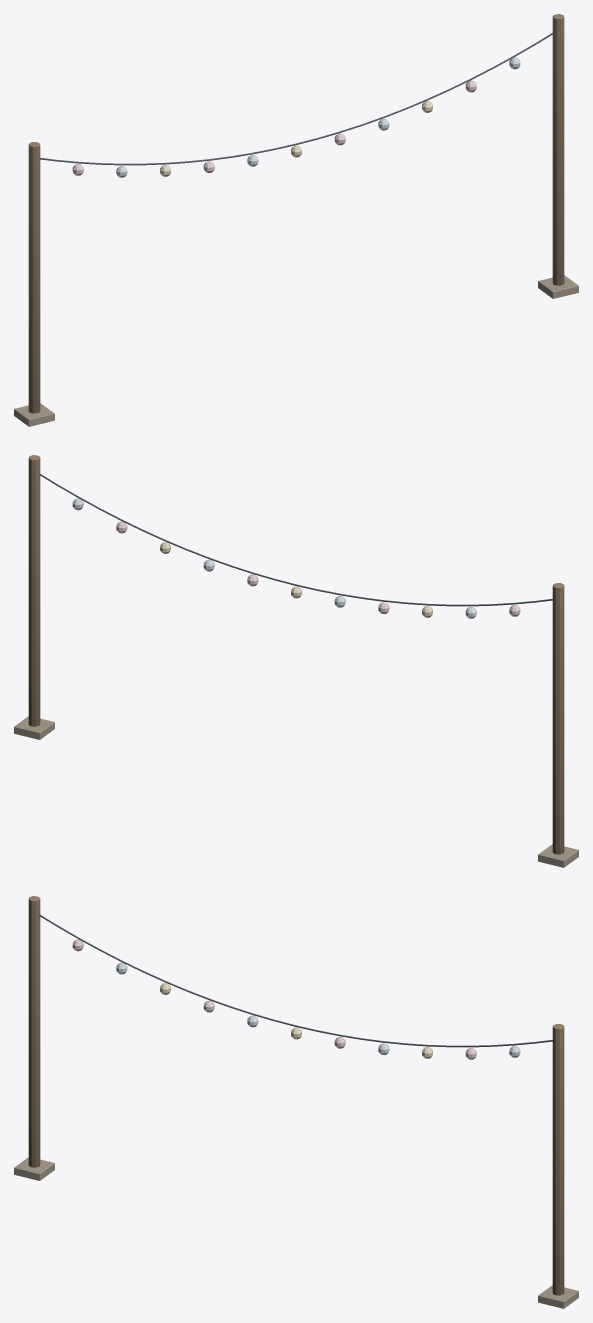
File: string_lights.glb
3 views of the same model, one above another, from view 1: azimuth 30°, elevation 25°; view 2: azimuth 150°, elevation 25°; view 3: azimuth 330°, elevation 25° (orthographic).
Bounding box in the file's own units: 6.3 × 3 × 0.3.
